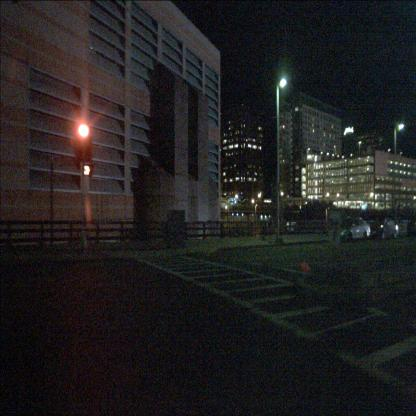vehicle-car: (331, 217, 373, 242), (371, 217, 399, 240)
